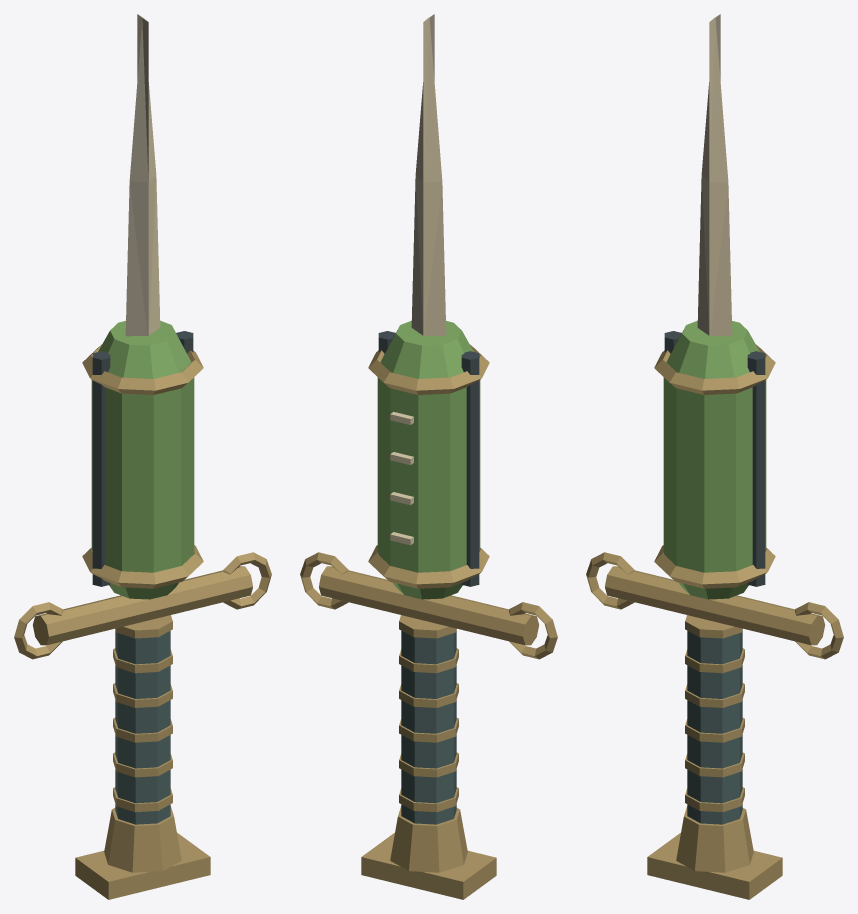
Rendered from Profession_CausticInjector.fbx.
3 views of the same model, side by side, from view 1: azimuth 30°, elevation 25°; view 2: azimuth 150°, elevation 25°; view 3: azimuth 330°, elevation 25° (orthographic).
Visible parts, largest first — view 1: Profession_CausticInjector; view 2: Profession_CausticInjector; view 3: Profession_CausticInjector.
Part boxes in pixels (left/top/right/bottom): Profession_CausticInjector: left=14, top=14, right=271, bottom=899; Profession_CausticInjector: left=300, top=14, right=557, bottom=899; Profession_CausticInjector: left=586, top=14, right=843, bottom=899.
Size of the model in its own units: 0.404 by 1.28 by 0.1579.
